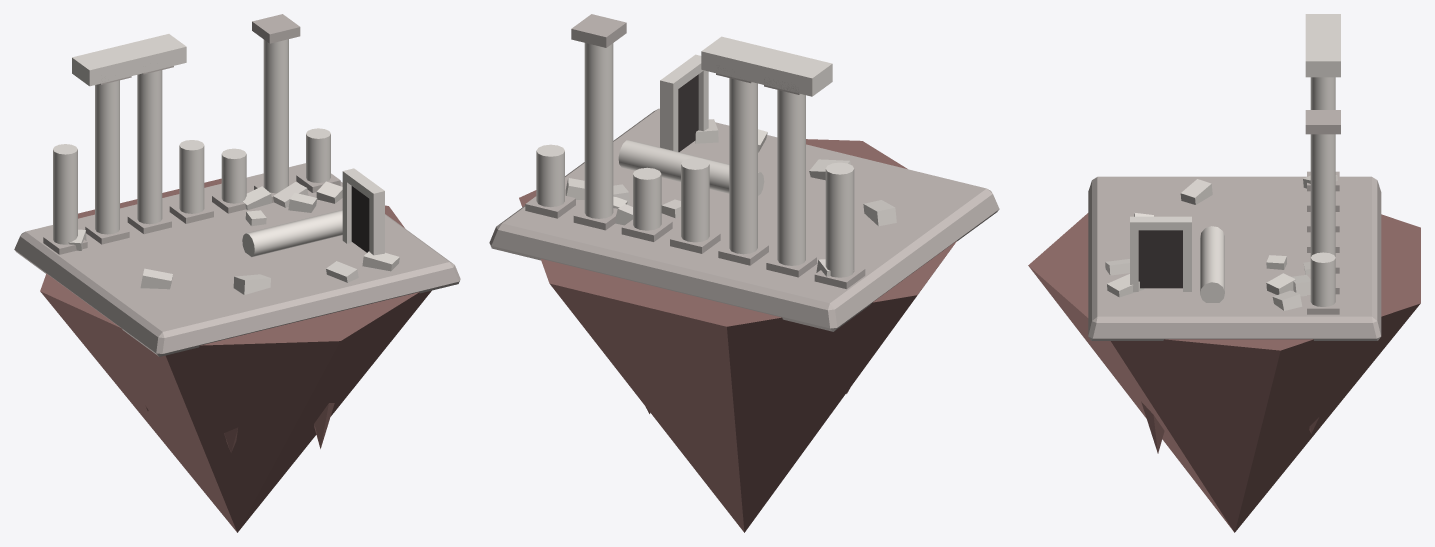
The model's file is zenith_ruin.glb.
3 renders of one model, left to right at view 1: azimuth 30°, elevation 25°; view 2: azimuth 150°, elevation 25°; view 3: azimuth 270°, elevation 25°, orthographic. The views are drawn at different scales.
Visible parts, largest first — view 1: marbledark, islandrock, marble, wire; view 2: islandrock, marbledark, marble, wire; view 3: islandrock, marbledark, marble, wire.
Boxes of the visible parts, x1=… form: marbledark: x1=14, y1=14, x2=460, y2=356; islandrock: x1=40, y1=178, x2=431, y2=532; marble: x1=53, y1=34, x2=399, y2=294; wire: x1=351, y1=186, x2=369, y2=252; islandrock: x1=519, y1=139, x2=956, y2=532; marbledark: x1=489, y1=14, x2=999, y2=331; marble: x1=536, y1=36, x2=896, y2=277; wire: x1=678, y1=74, x2=698, y2=151; islandrock: x1=1028, y1=213, x2=1420, y2=532; marbledark: x1=1088, y1=110, x2=1381, y2=340; marble: x1=1105, y1=14, x2=1340, y2=310; wire: x1=1138, y1=230, x2=1182, y2=288.
Size of the model in its own units: 27.3 by 34.7 by 26.61.
